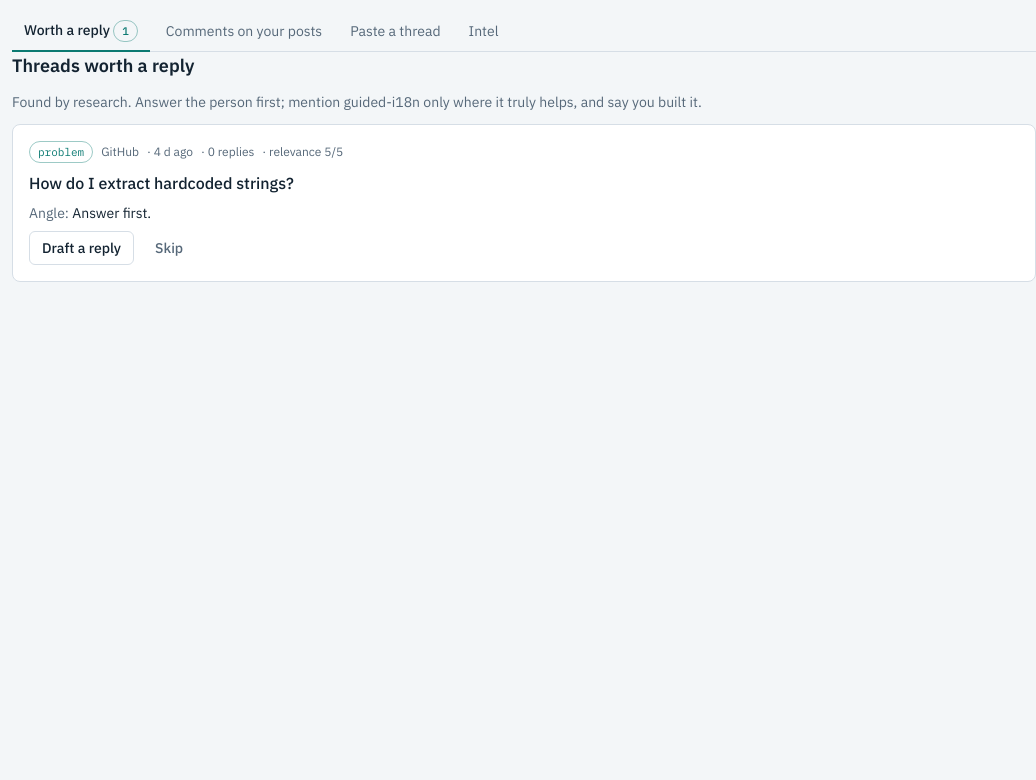
Test: a draft is only requested after confirming the estimate
Click the button "Draft a reply": (82, 248) [29, 231, 134, 265]
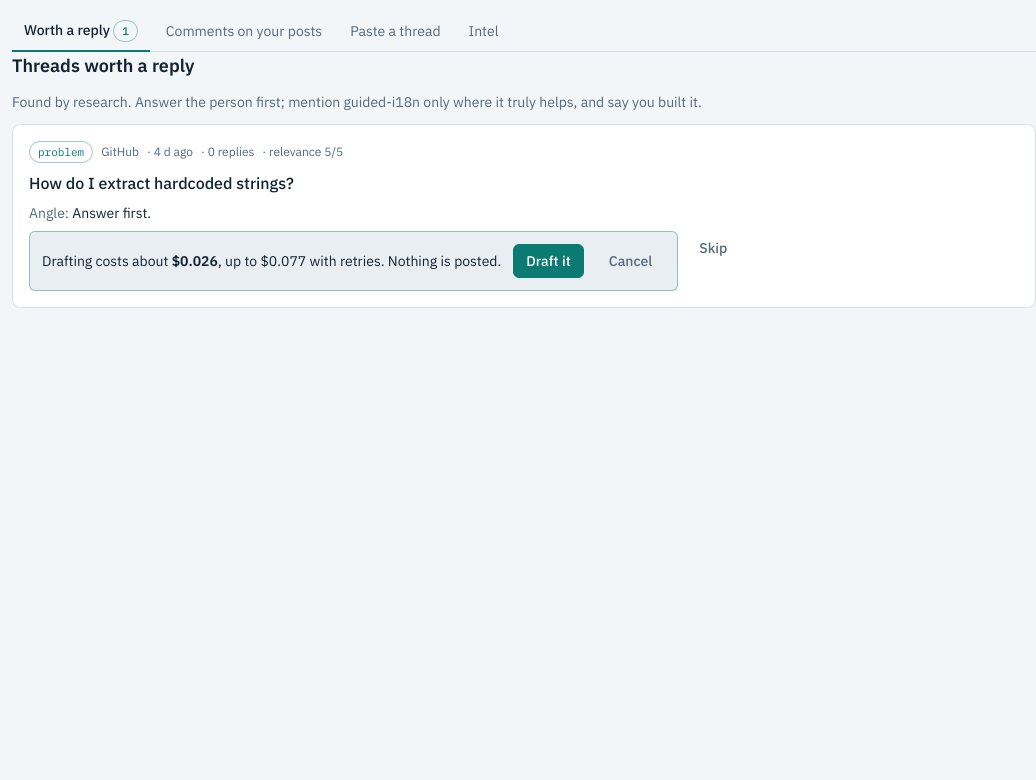
Now the text "Drafting costs about" shows "$0.026", box [172, 252, 218, 270]
Click the button "Draft it": (549, 261) [513, 244, 584, 278]
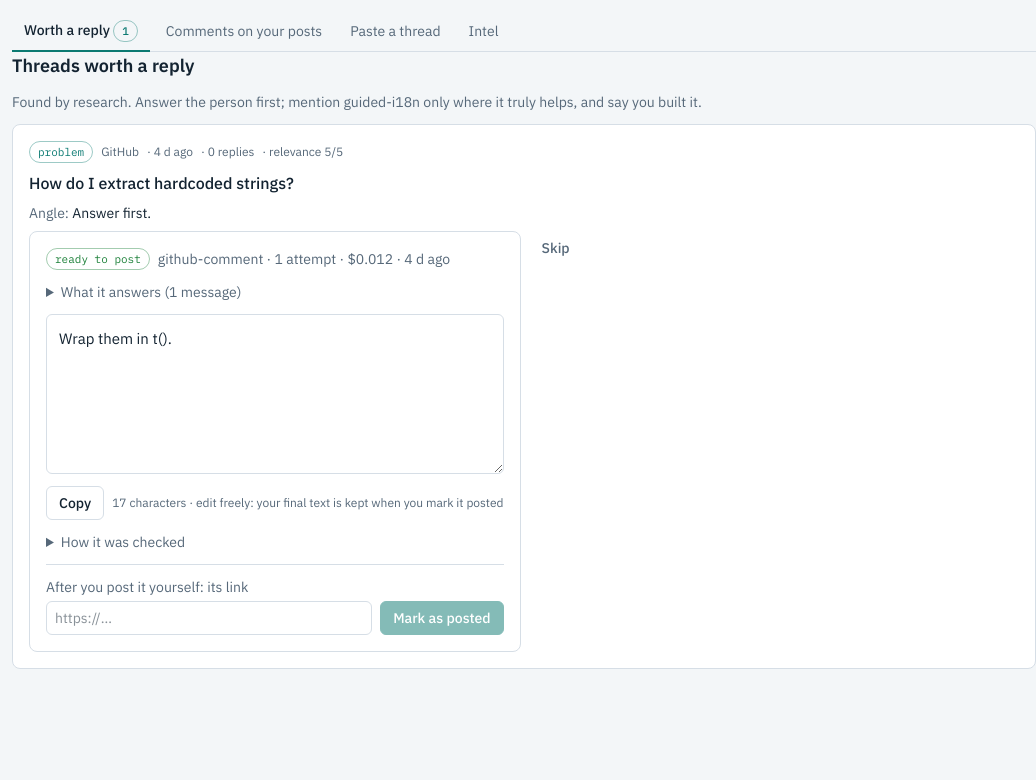
Now the text box showing "Wrap them in t()." is shown, box [46, 314, 504, 474]
Now the text "ready to post" is shown, box [46, 248, 150, 270]
